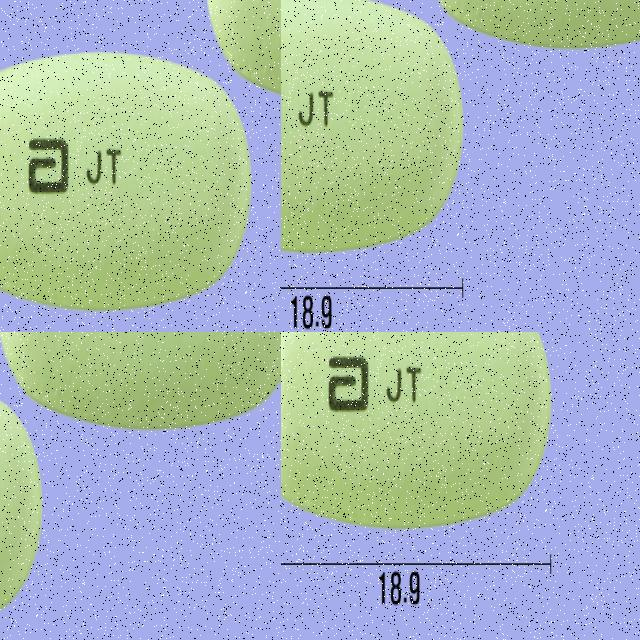Ilsung Augmentin - 625mg: (88, 99, 279, 332)
Klaricid Film Coated: (281, 332, 553, 531)
Piclo Tab: (281, 0, 445, 249)
Pilocin Tab: (0, 456, 129, 640)
